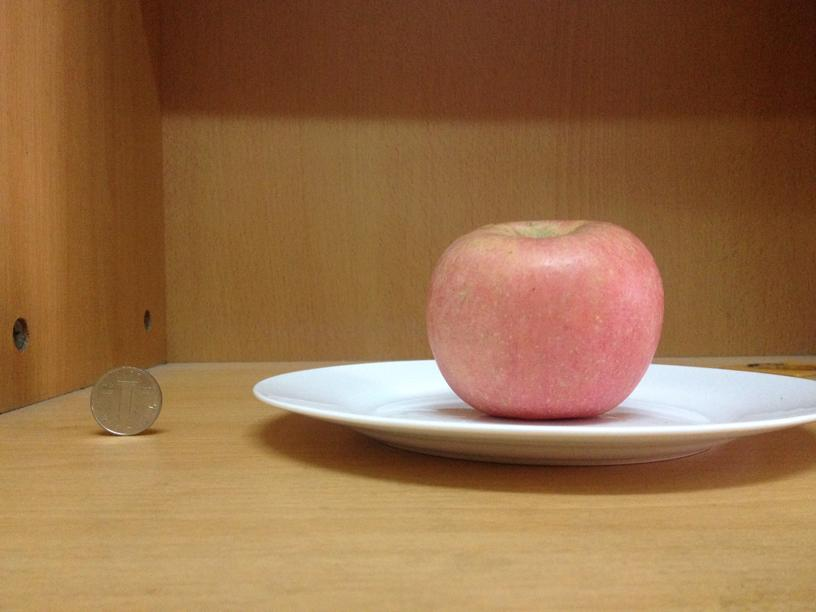apple: (425, 216, 663, 421)
coin: (89, 366, 163, 433)
